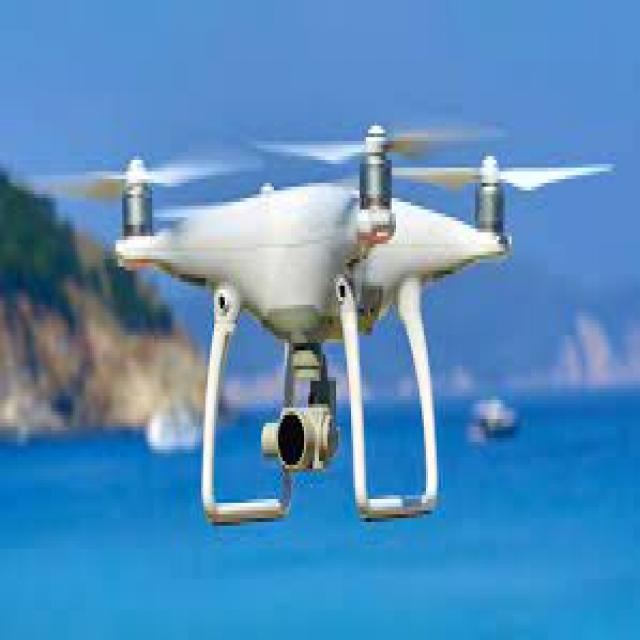drones: (25, 116, 617, 527)
